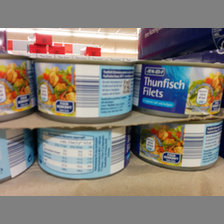fish: (34, 57, 135, 121), (131, 112, 223, 174), (37, 124, 133, 180), (134, 56, 223, 115)
